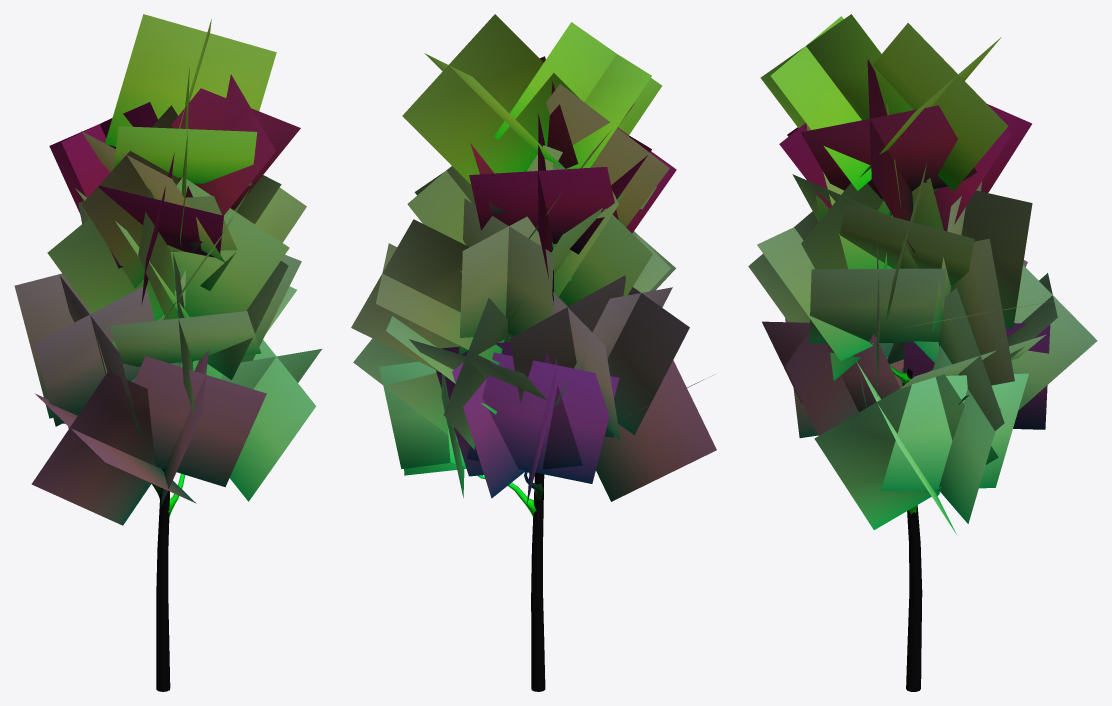
File: URP_P12_Tree_14_LOD_2.fbx
3 renders of one model, left to right at view 1: azimuth 30°, elevation 25°; view 2: azimuth 150°, elevation 25°; view 3: azimuth 270°, elevation 25°, orthographic. The views are drawn at different scales.
Visible parts, largest first — view 1: Tree_14_LOD_2; view 2: Tree_14_LOD_2; view 3: Tree_14_LOD_2.
Boxes of the visible parts, <box> form: Tree_14_LOD_2: <box>14,14,321,691</box>; Tree_14_LOD_2: <box>351,14,716,691</box>; Tree_14_LOD_2: <box>748,14,1097,691</box>.
Size of the model in its own units: 172 by 355 by 163.
